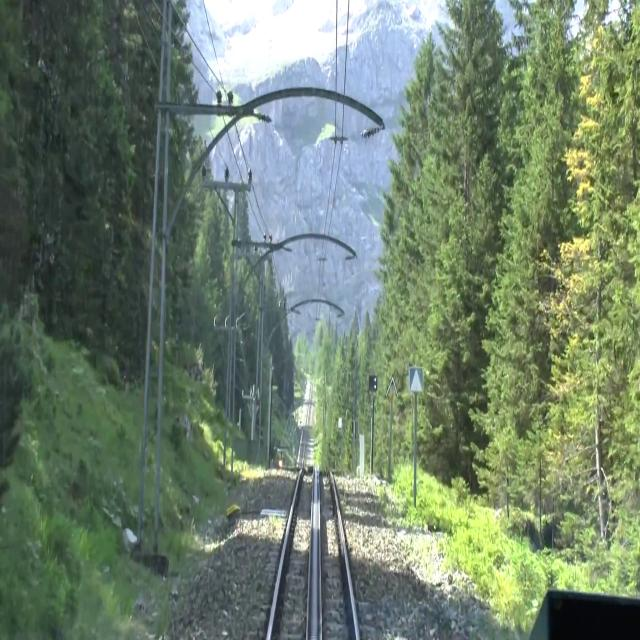rail-track: (271, 388, 354, 639)
